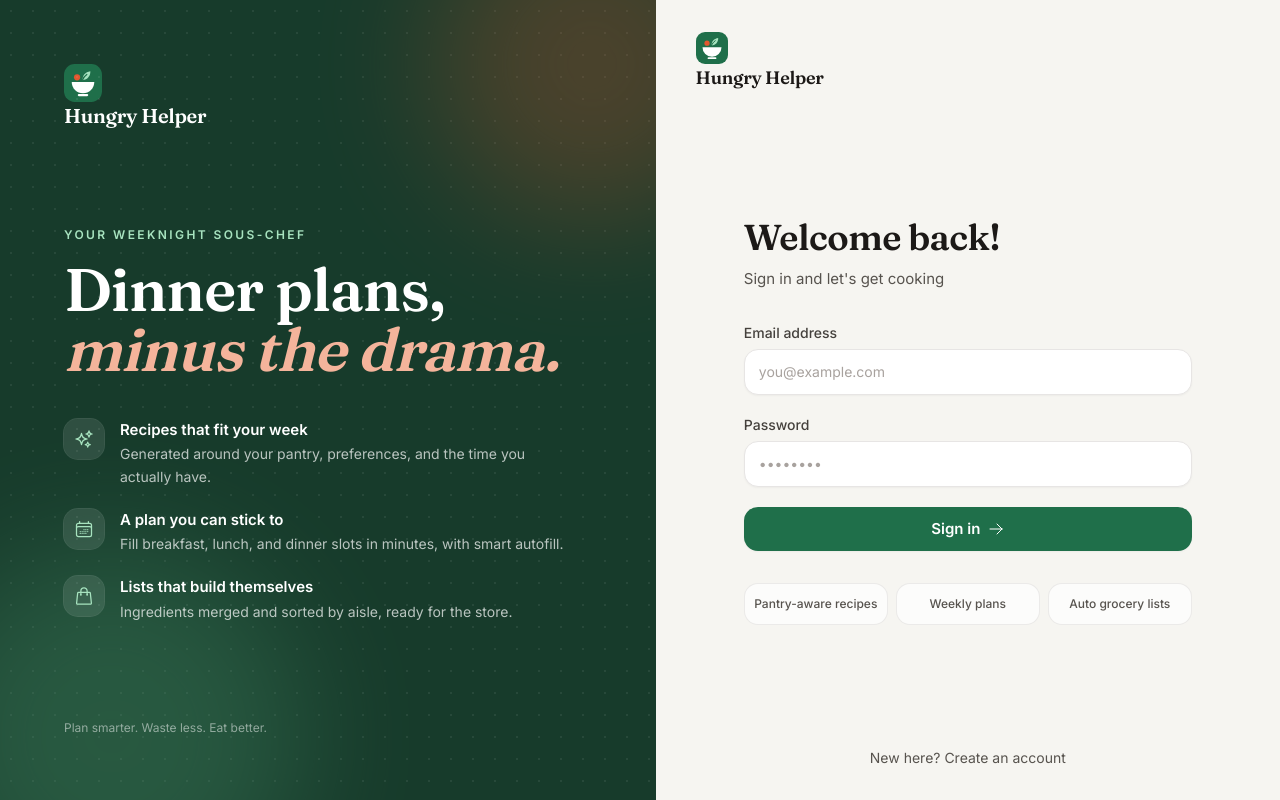
Scenario: LoginPage › displays generic error message when no specific error is provided
The image size is (1280, 800).
Type "test@example.com" into the field labelled "Email address". click: (968, 372)
box: [744,349,1192,395]
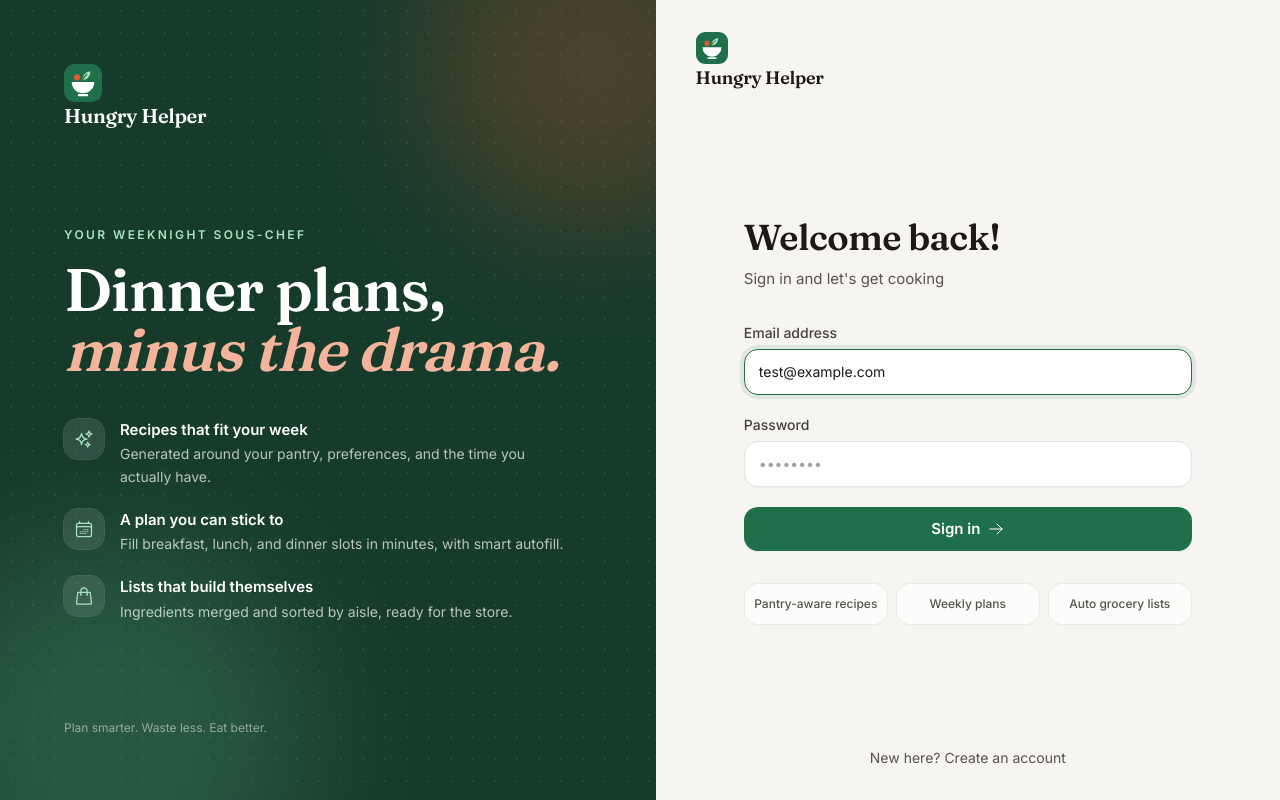
Type "password123" into the password field labelled "Password". click: (968, 464)
box: [744,441,1192,487]
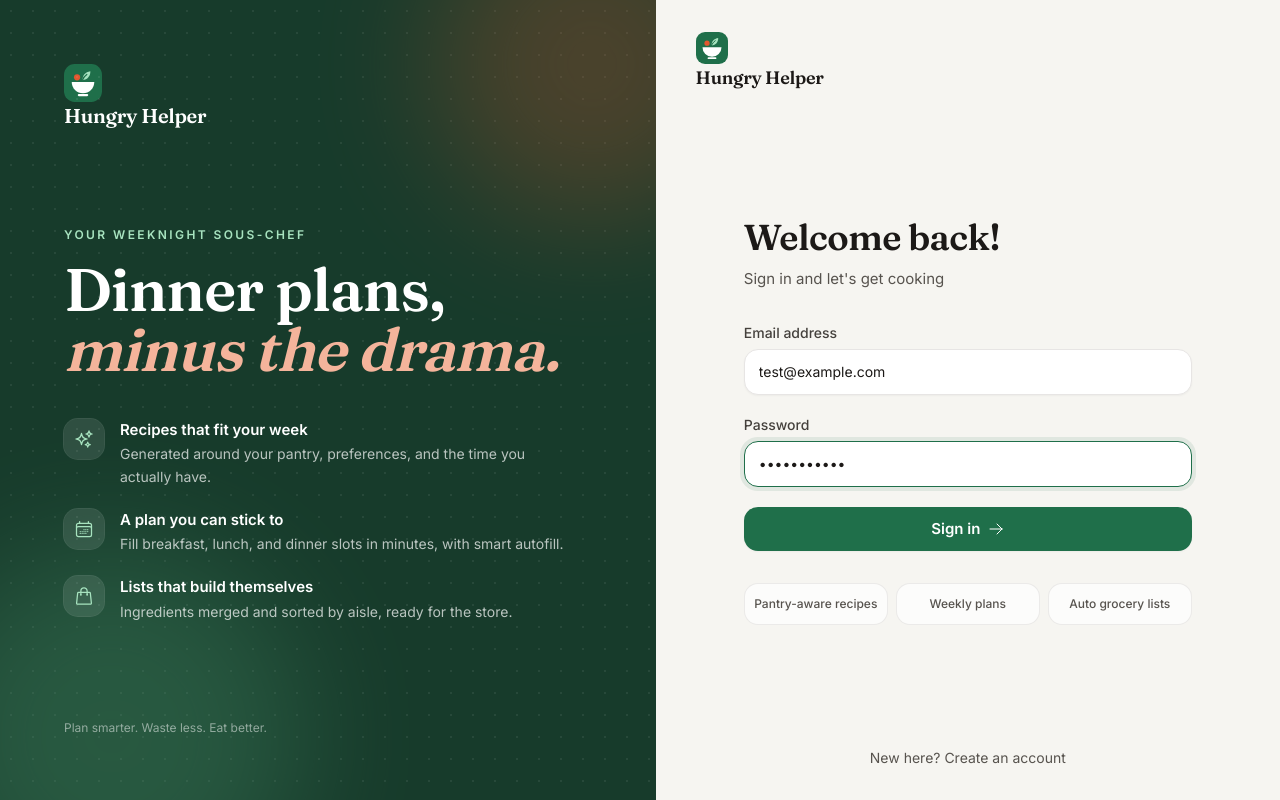
Click the button "Sign in". click: click(968, 529)
box: [744,507,1192,551]
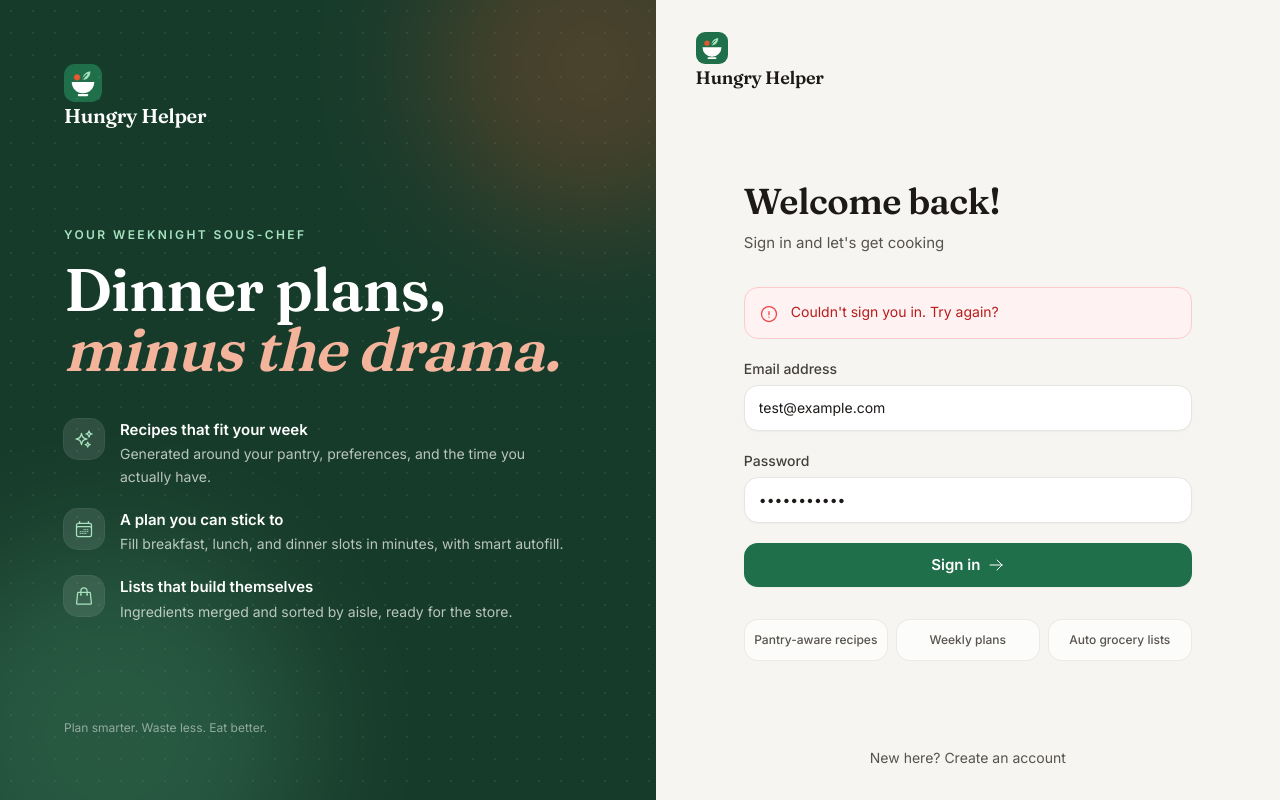
Expected: the text "Couldn't sign you in. Try again?" is shown, [791,302,999,322]
